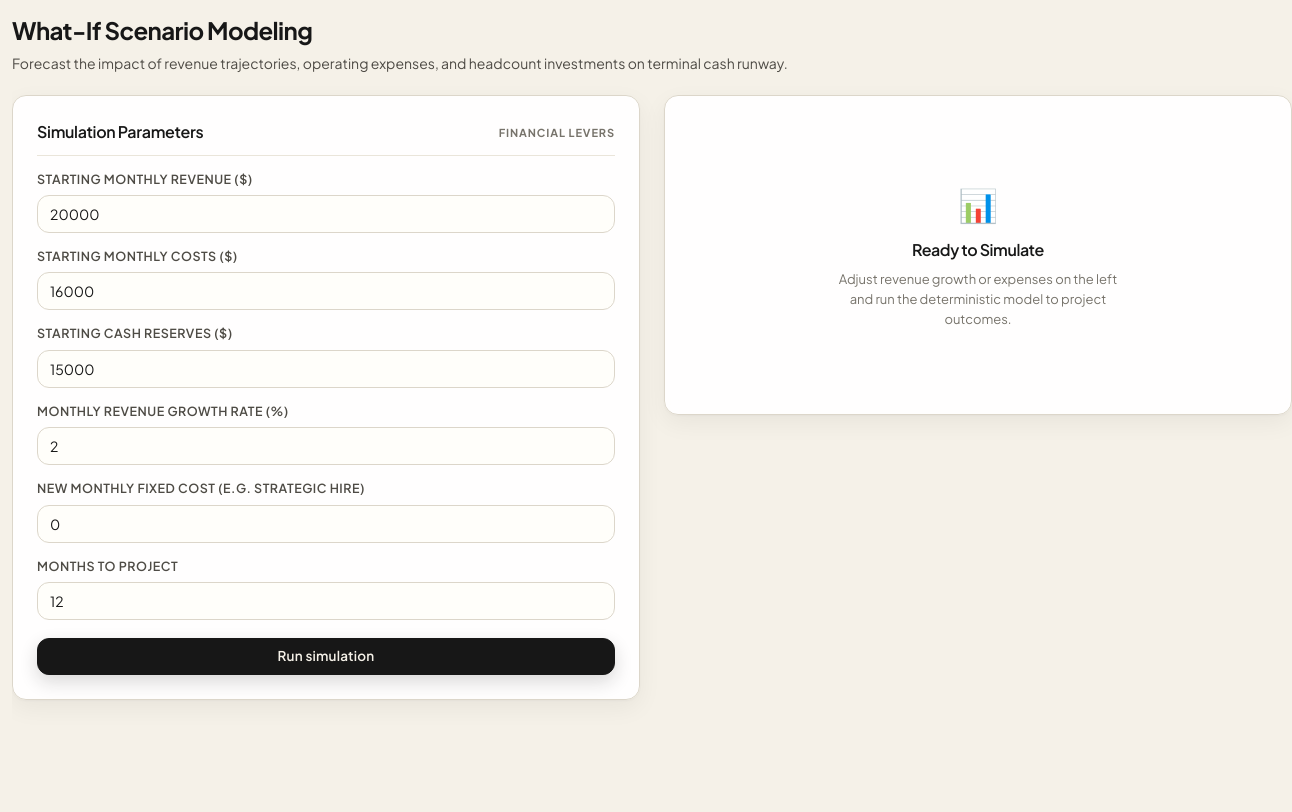
Test: Simulator › shows an error message when the simulation request fails
Click the button "Run simulation" at [326, 656], box top-left (37, 638), bottom-right (615, 675)
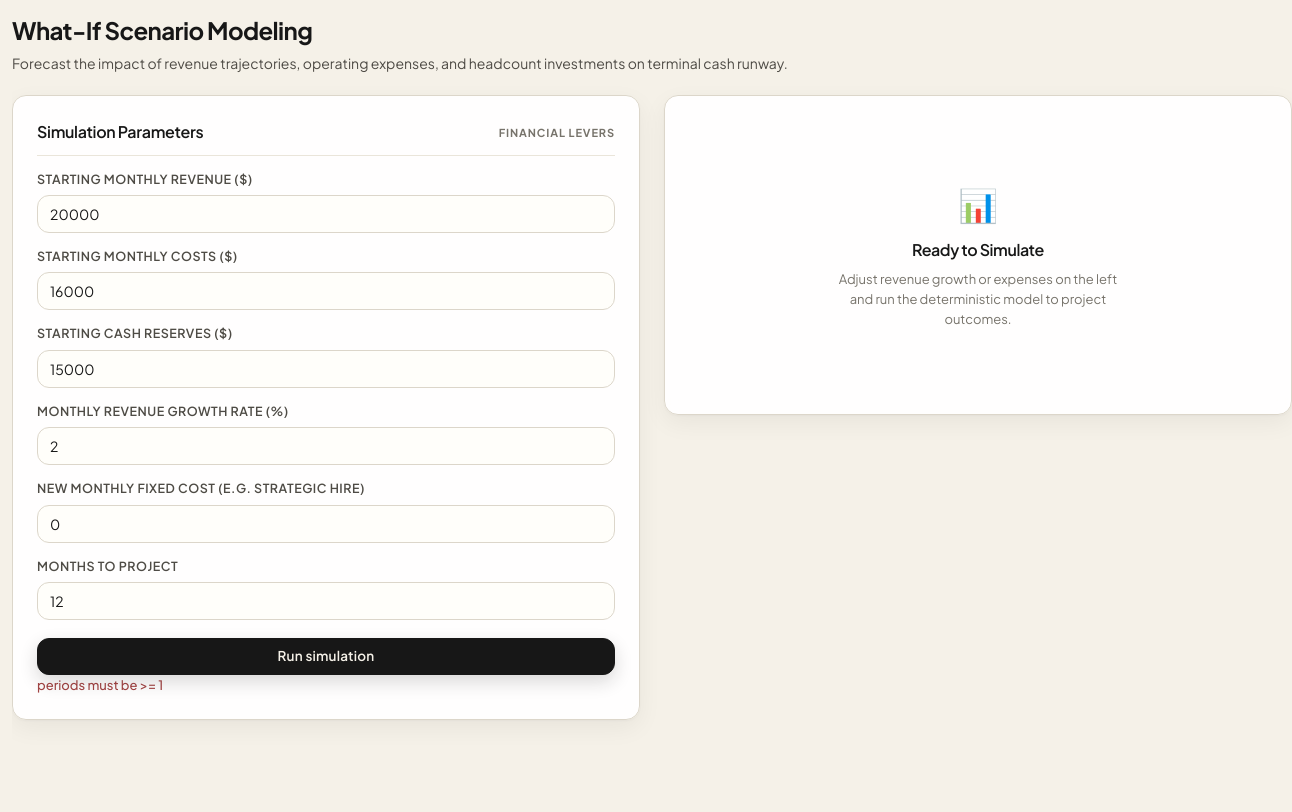
Now the text "periods must be >= 1" is shown, box top-left (37, 677), bottom-right (163, 693)
